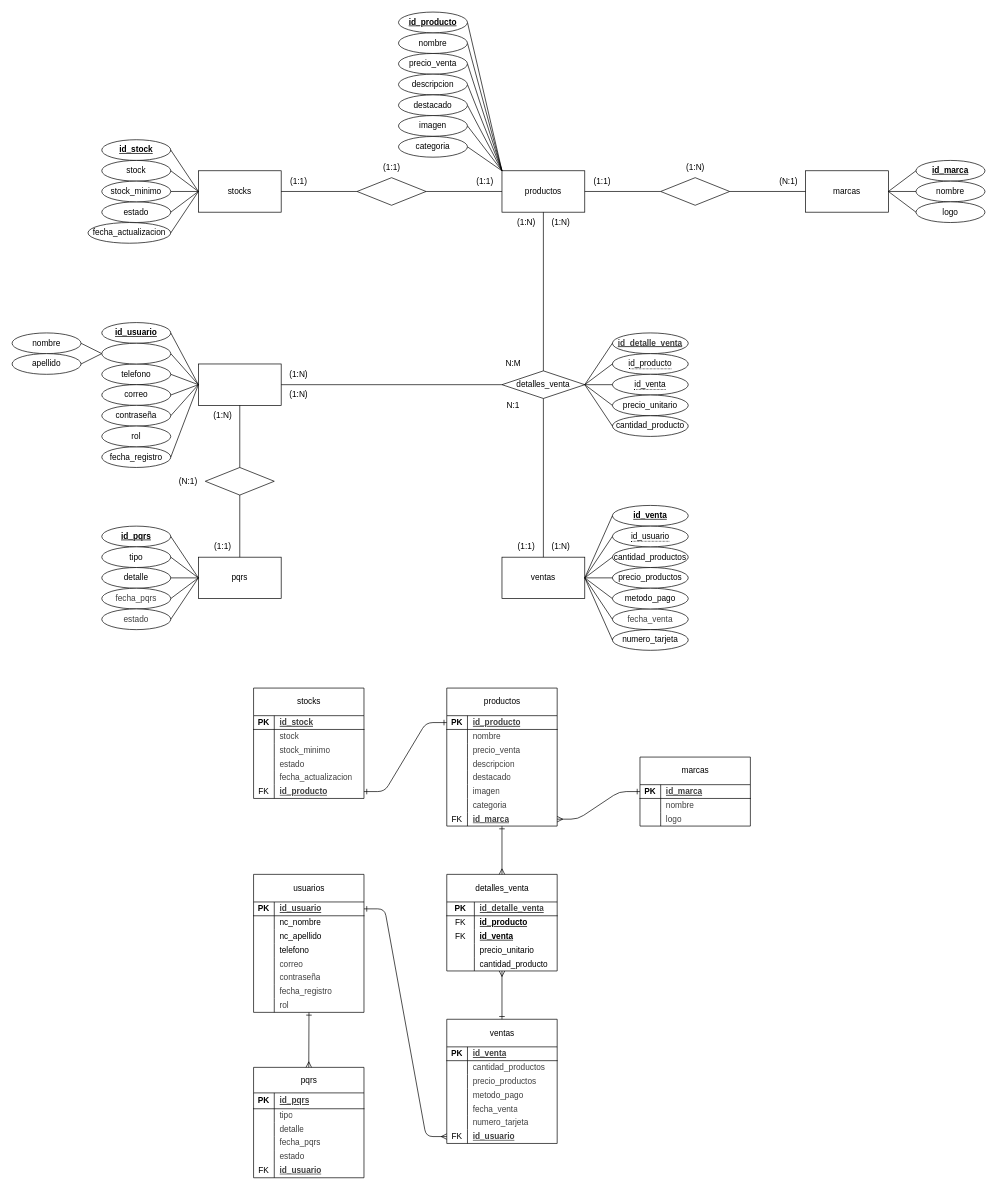
Some shapes in this 997 by 1190 pixel diagram are drawn without their labels. Each missing label, with the centre of its shape:
"contiene" belongs at (x=391, y=191).
"nombre_completo" belongs at (x=136, y=353).
"redacta" belongs at (x=239, y=481).
"relaciona" belongs at (x=695, y=191).
"usuario" belongs at (x=239, y=384).
